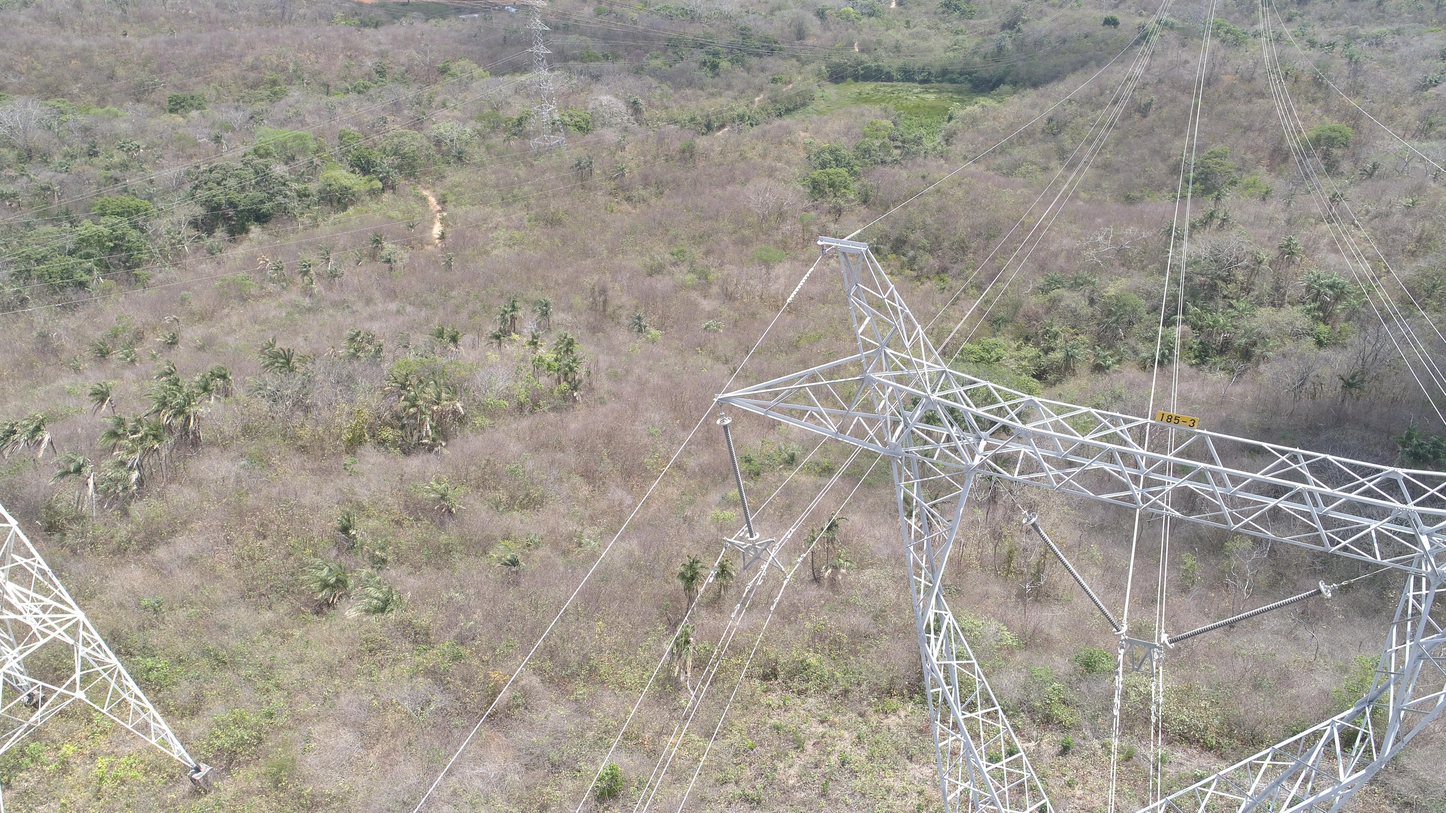power_tower: (714, 234, 1445, 812), (0, 496, 246, 768), (523, 4, 566, 156)
